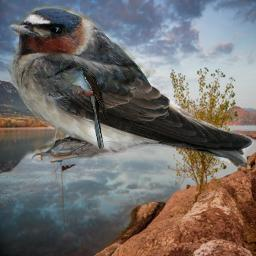Cuckoo: (54, 60, 108, 149)
Swallow: (3, 4, 256, 171)
